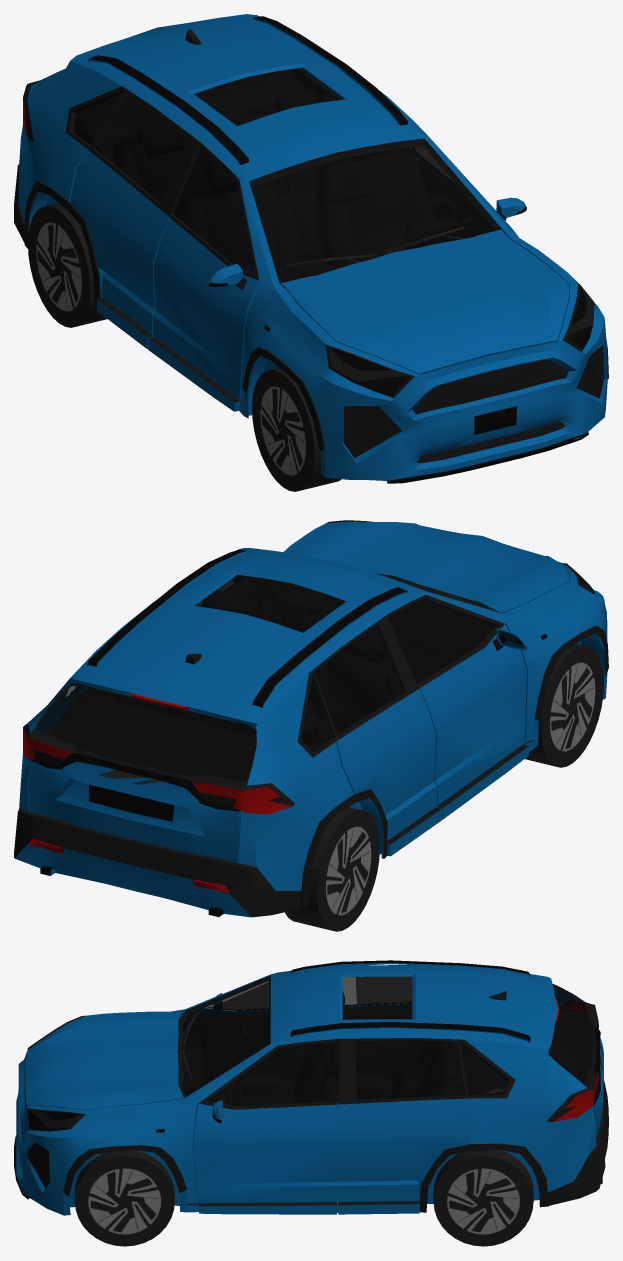
Rendered from Alma_bluefbx.fbx.
3 renders of one model, top to bottom at view 1: azimuth 30°, elevation 25°; view 2: azimuth 150°, elevation 25°; view 3: azimuth 270°, elevation 25°, orthographic. The views are drawn at different scales.
Visible parts, largest first — view 1: Body, Interior, RearRightWheel, FrontRightWheel, Wiper; view 2: Body, Interior, RearRightWheel, FrontRightWheel; view 3: Body, Interior, RearLeftWheel, FrontLeftWheel.
Boxes of the visible parts, x1,y1,x2,y2 form: Body: [14, 14, 608, 483]; Interior: [74, 68, 495, 282]; RearRightWheel: [28, 203, 106, 327]; FrontRightWheel: [252, 368, 340, 491]; Wiper: [285, 227, 465, 267]; Body: [14, 520, 608, 917]; Interior: [47, 577, 493, 784]; RearRightWheel: [285, 807, 379, 931]; FrontRightWheel: [525, 643, 603, 767]; Body: [14, 960, 608, 1215]; Interior: [182, 993, 603, 1107]; RearLeftWheel: [433, 1149, 533, 1246]; FrontLeftWheel: [74, 1151, 174, 1246].
Bounding box in the file's own units: 232 × 172 × 468.
13 materials, 4 textured.
